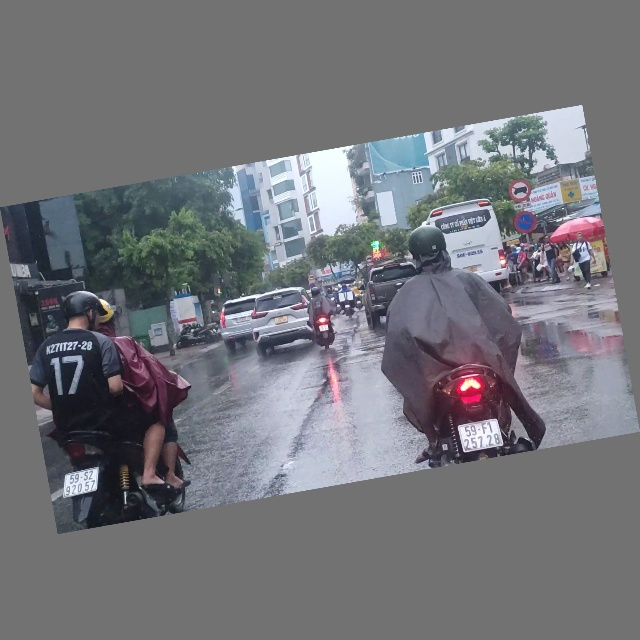P.106a*Xe tai: (507, 178, 534, 204), (364, 254, 374, 264), (308, 274, 315, 281)
P.131a: (512, 208, 538, 236)
